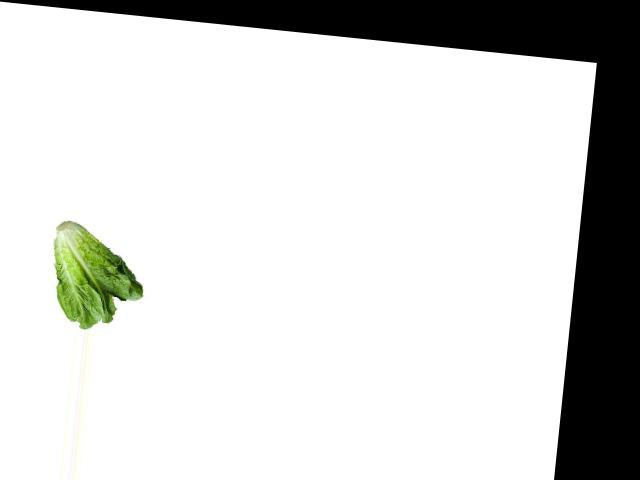lettuce: (41, 219, 153, 337)
